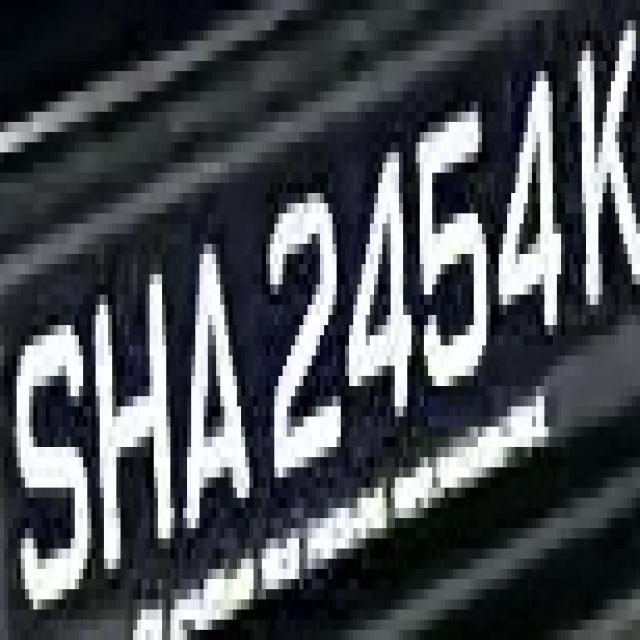2: (241, 152, 353, 548)
4: (482, 71, 565, 386), (341, 132, 424, 437)
5: (412, 71, 494, 417)
A: (170, 193, 258, 549)
H: (91, 264, 183, 589)
K: (557, 41, 640, 325)
S: (8, 284, 96, 600)
